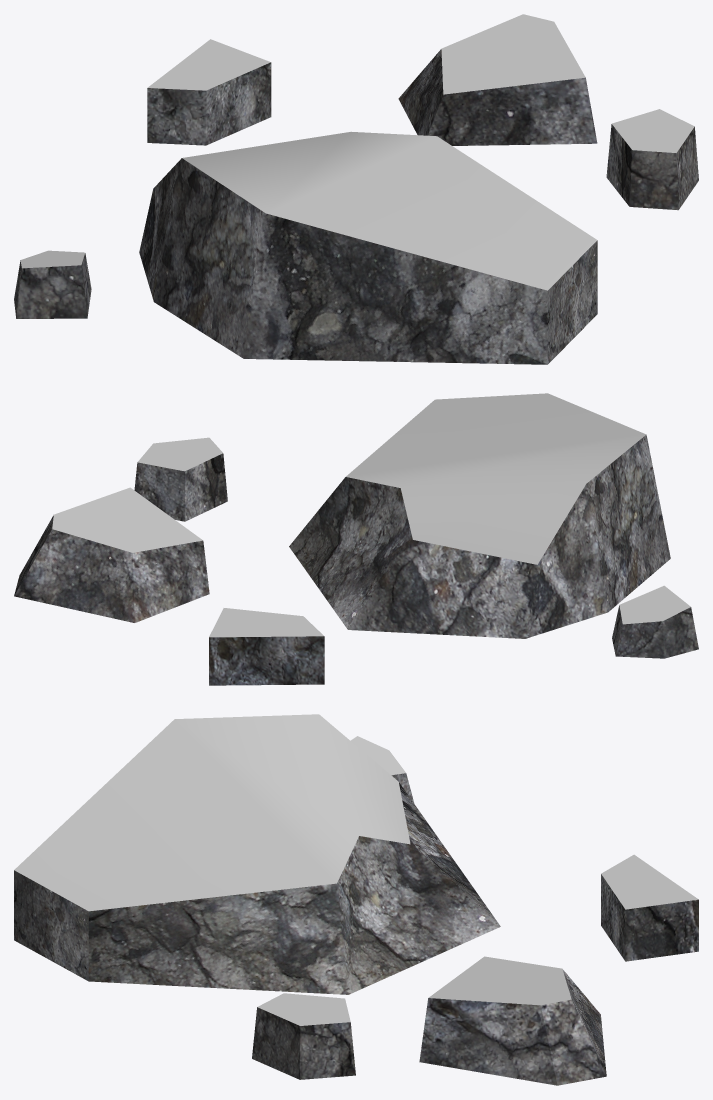
File: Debris_small2_LOD0.fbx
3 renders of one model, top to bottom at view 1: azimuth 30°, elevation 25°; view 2: azimuth 150°, elevation 25°; view 3: azimuth 270°, elevation 25°, orthographic. The views are drawn at different scales.
Visible parts, largest first — view 1: polySurface71; view 2: polySurface71; view 3: polySurface71.
Boxes of the visible parts, box(x1,y1,x2,y2) form: polySurface71: box(14, 14, 698, 364); polySurface71: box(14, 393, 698, 685); polySurface71: box(14, 714, 698, 1085).
Bounding box in the file's own units: 1.75 × 0.3474 × 1.64.
